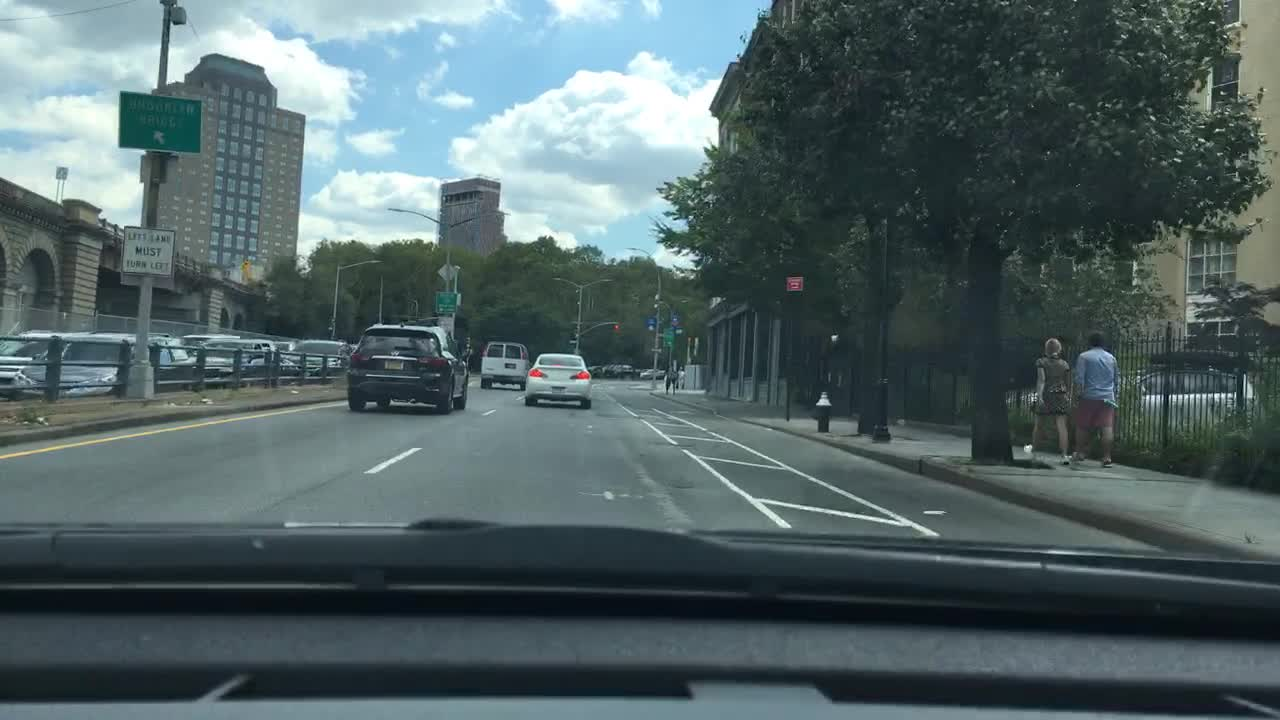car: (1008, 359, 1266, 446), (9, 331, 188, 404), (345, 324, 471, 416), (1, 327, 90, 401), (182, 338, 282, 387), (523, 352, 595, 409), (282, 338, 354, 381), (478, 339, 532, 392), (175, 331, 240, 357), (270, 338, 300, 359), (586, 362, 604, 380), (640, 366, 663, 380), (616, 366, 637, 381), (604, 362, 618, 376)
person: (1069, 332, 1121, 469), (1023, 336, 1076, 467), (661, 360, 679, 401), (677, 362, 688, 390)
traffic sign: (118, 89, 202, 152), (119, 224, 175, 275), (118, 262, 172, 286), (434, 289, 459, 313), (437, 315, 458, 340), (434, 261, 455, 282), (784, 274, 807, 291), (660, 328, 678, 349), (55, 163, 69, 184), (667, 314, 685, 330), (643, 314, 657, 333), (240, 258, 252, 274), (673, 326, 688, 337), (564, 337, 582, 344)
